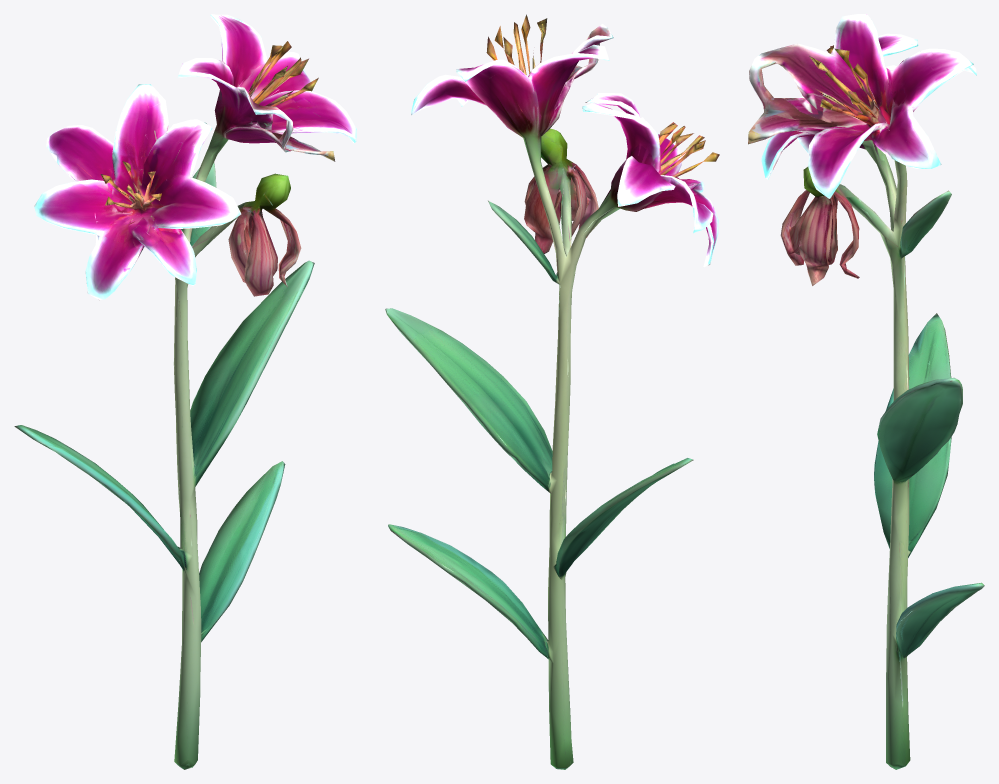
The picture shows the model from 3 angles, left to right: view 1: azimuth 30°, elevation 25°; view 2: azimuth 150°, elevation 25°; view 3: azimuth 270°, elevation 25°; orthographic projection. The views are drawn at different scales.
Parts seen in each view (by area): view 1: Mesh_0; view 2: Mesh_0; view 3: Mesh_0.
Part boxes in pixels (x1=…): Mesh_0: x1=14, y1=14, x2=356, y2=769; Mesh_0: x1=385, y1=14, x2=719, y2=769; Mesh_0: x1=748, y1=14, x2=984, y2=769.
Size of the model in its own units: 0.8453 by 1.91 by 0.5457.
1 material, 1 textured.
